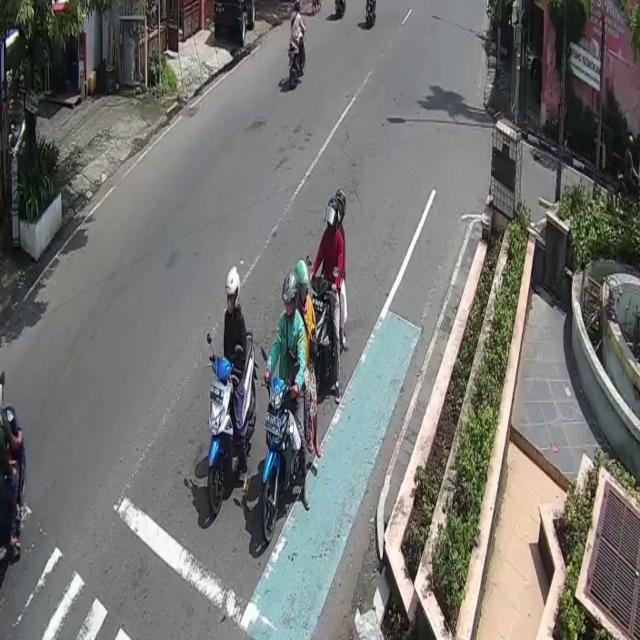bus: (205, 326, 259, 516), (260, 349, 308, 546), (309, 270, 342, 402), (288, 18, 307, 91)
